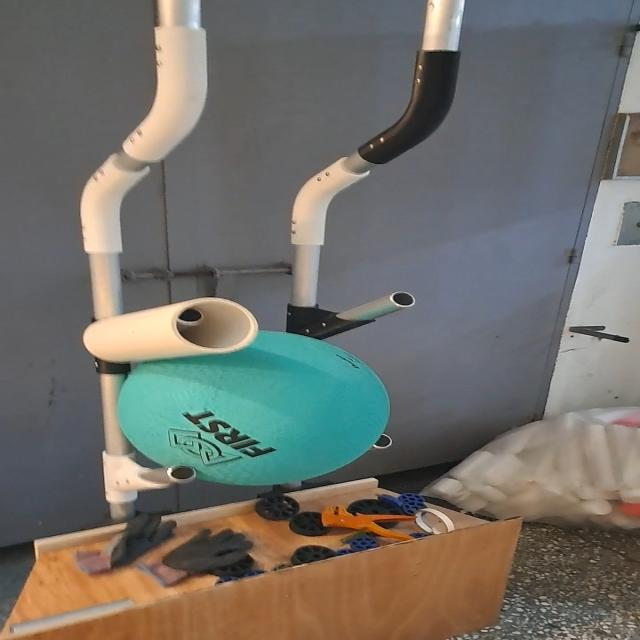ALGAE: (115, 330, 396, 488)
CORAL: (80, 294, 260, 366)
